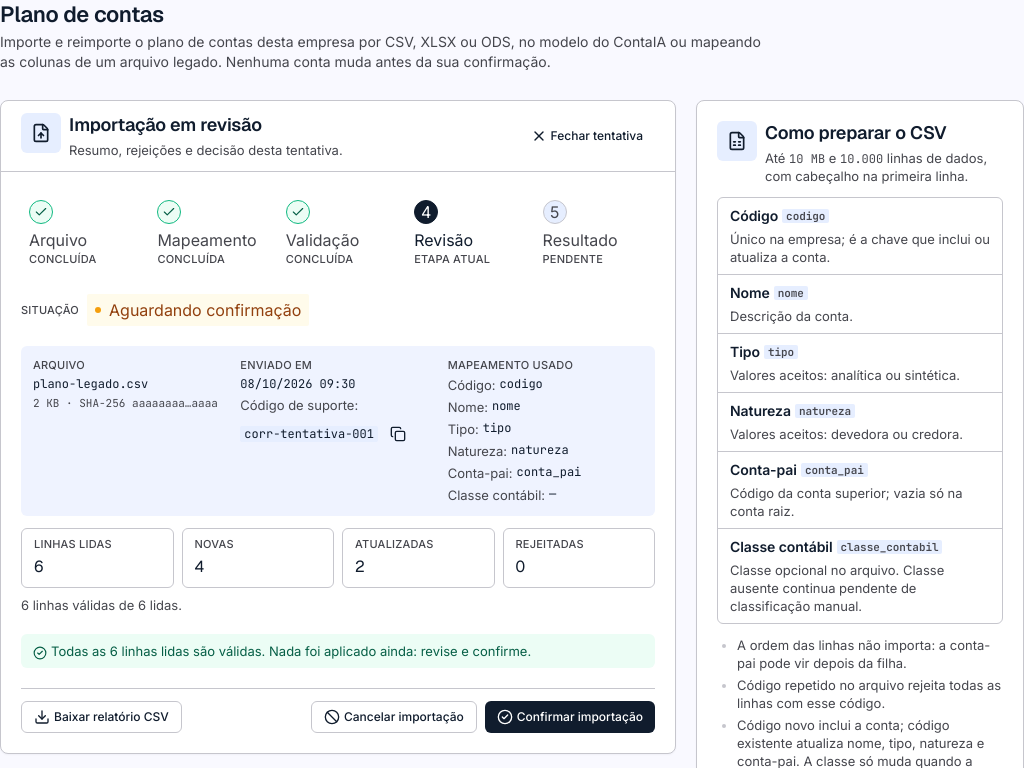
Test case: diálogos destrutivos sem dois "Cancelar" › cancelar a importação: a recusa é "Manter prévia" e o nome longo quebra no título
The image size is (1024, 768).
Click the button "Cancelar importação". click: (394, 717)
box: [311, 701, 477, 733]
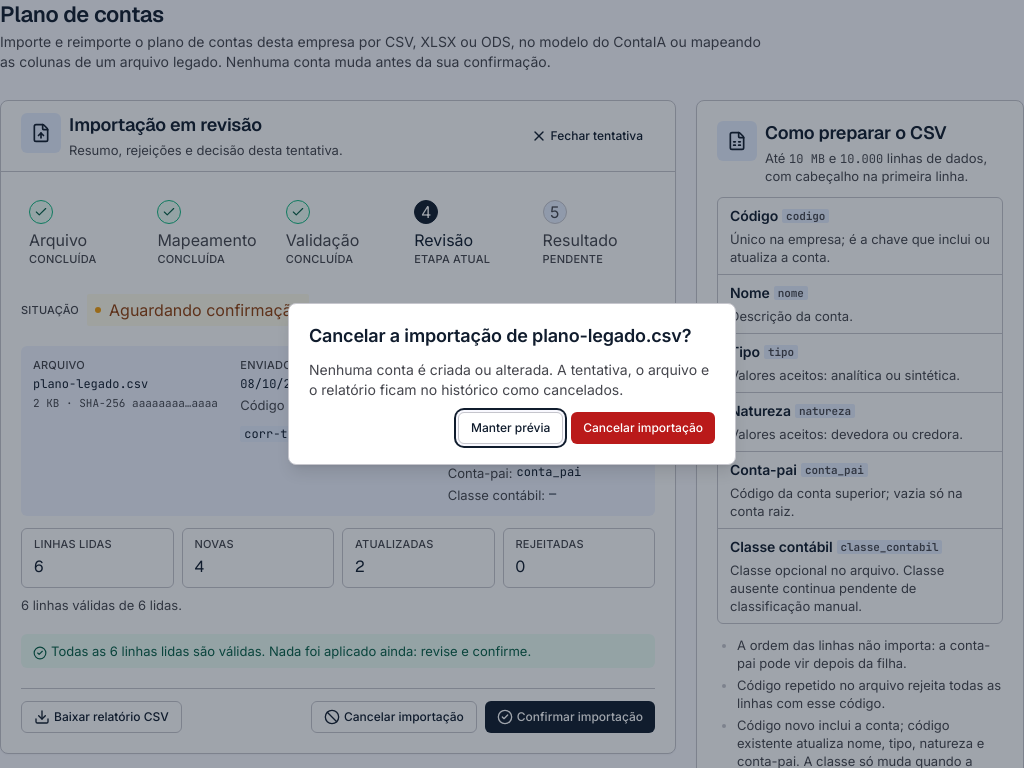
Result: the button "Manter prévia" is shown
Click the button "Manter prévia". click: (511, 428)
box: [458, 412, 563, 444]
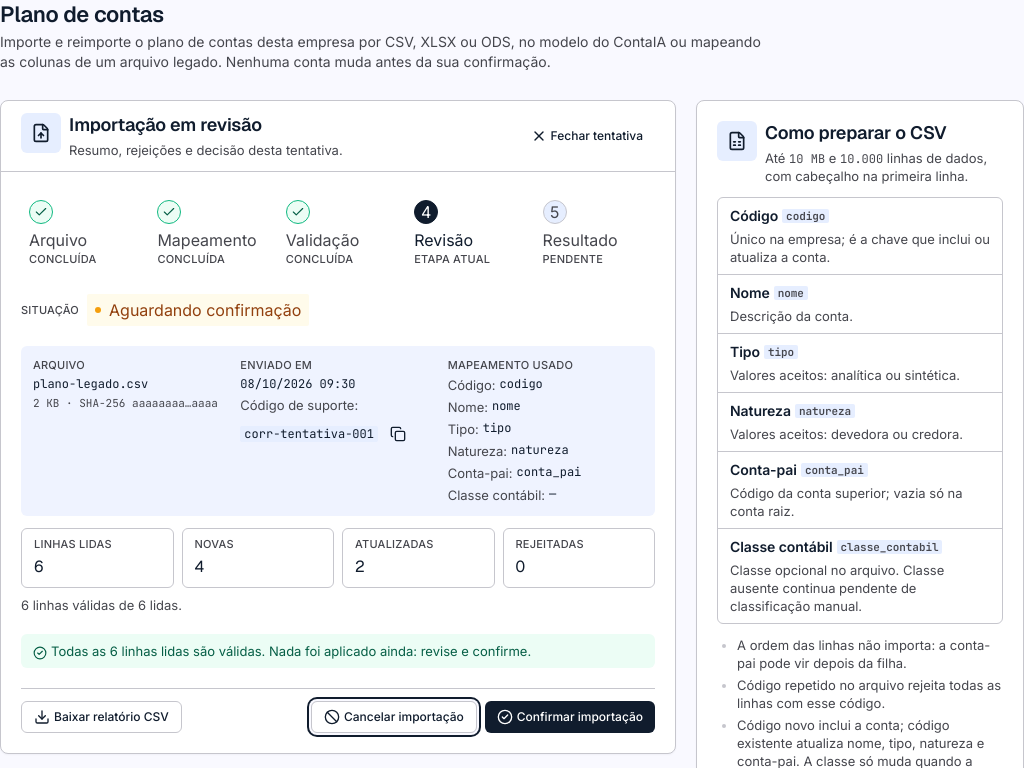
Result: the dialog is gone
